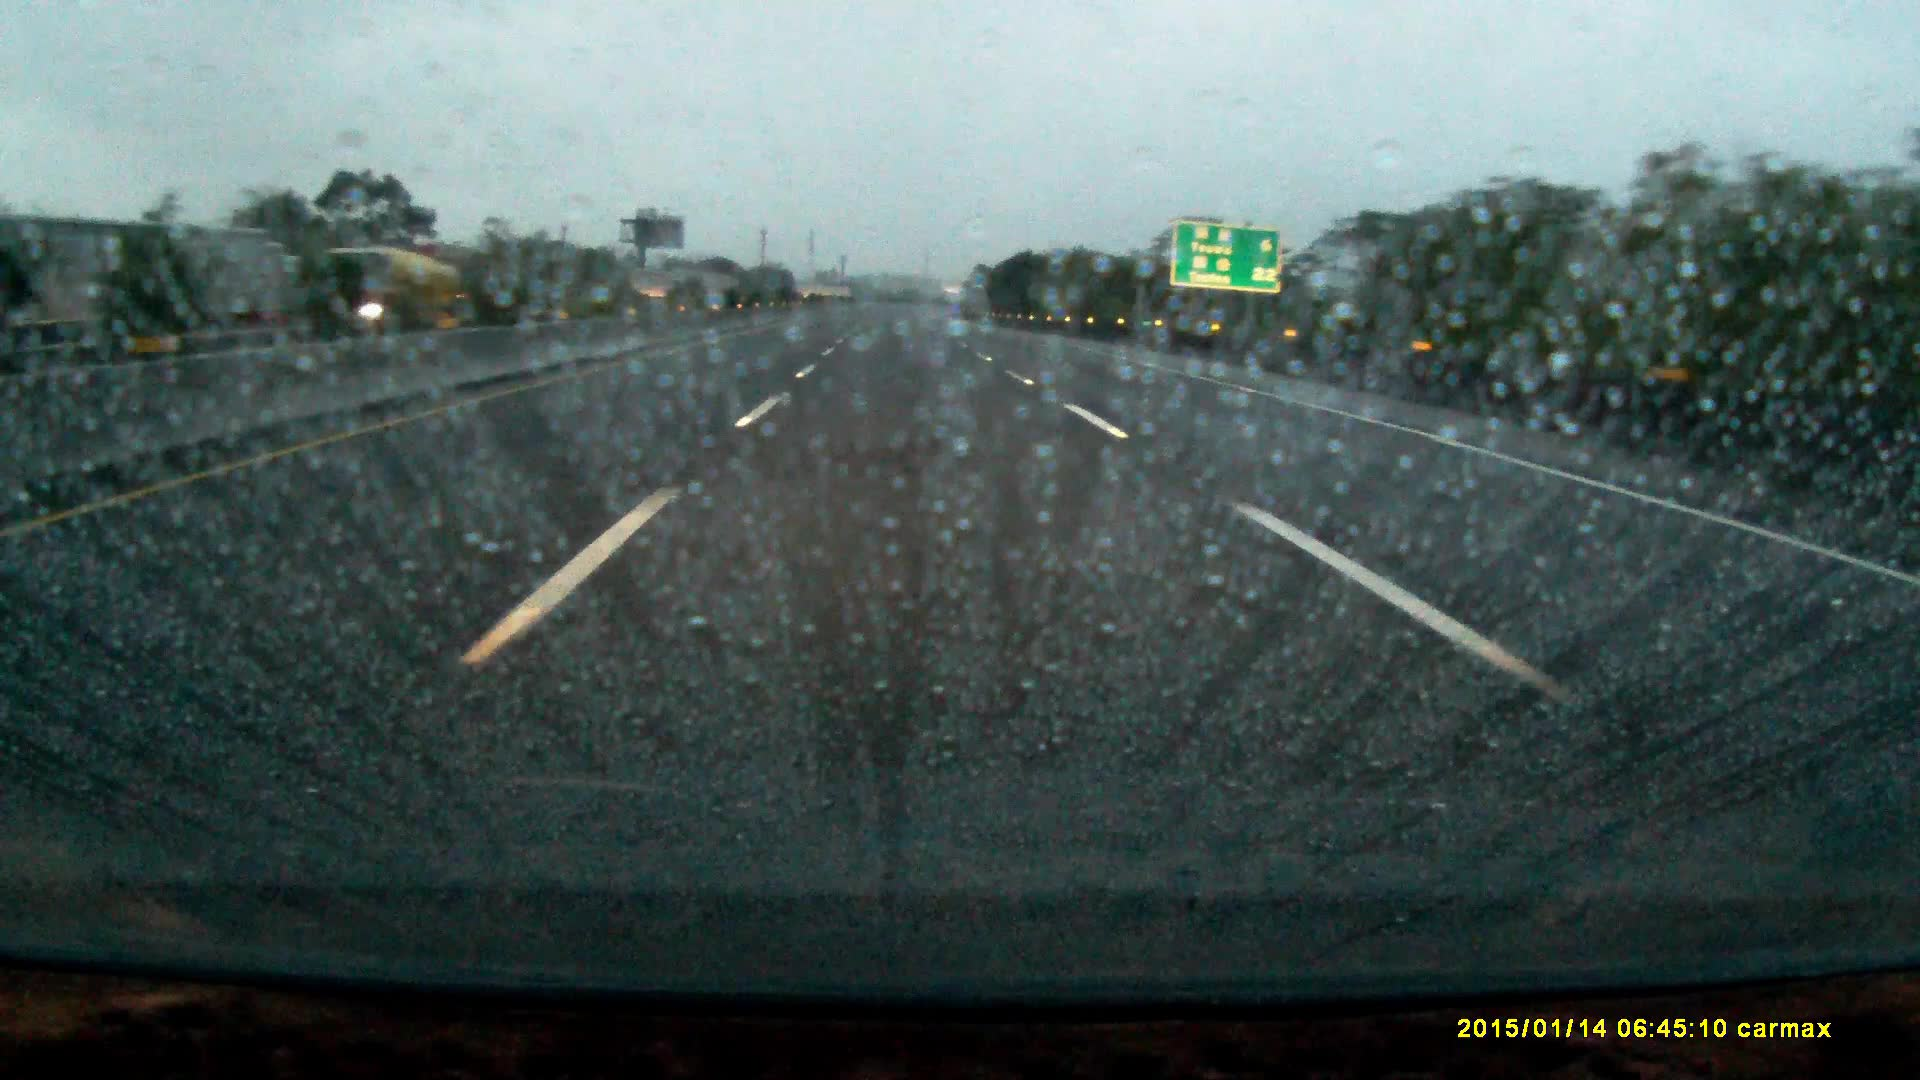vehicle: (295, 247, 465, 327), (316, 290, 426, 326)
